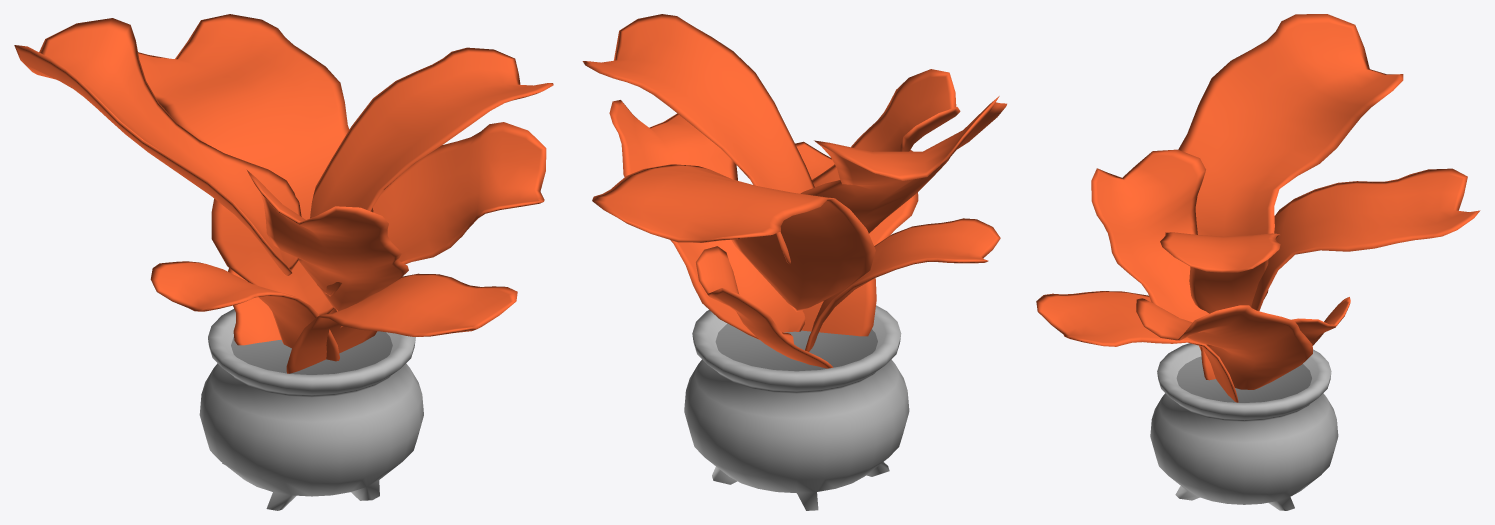
Rendered from Folige_05.fbx.
3 views of the same model, side by side, from view 1: azimuth 30°, elevation 25°; view 2: azimuth 150°, elevation 25°; view 3: azimuth 270°, elevation 25° (orthographic). The views are drawn at different scales.
Parts seen in each view (by area): view 1: Cylinder.047; view 2: Cylinder.047; view 3: Cylinder.047.
Boxes of the visible parts, x1=… form: Cylinder.047: x1=14, y1=14, x2=553, y2=510; Cylinder.047: x1=582, y1=14, x2=1006, y2=510; Cylinder.047: x1=1036, y1=14, x2=1480, y2=510.
Size of the model in its own units: 108 by 106 by 111.
